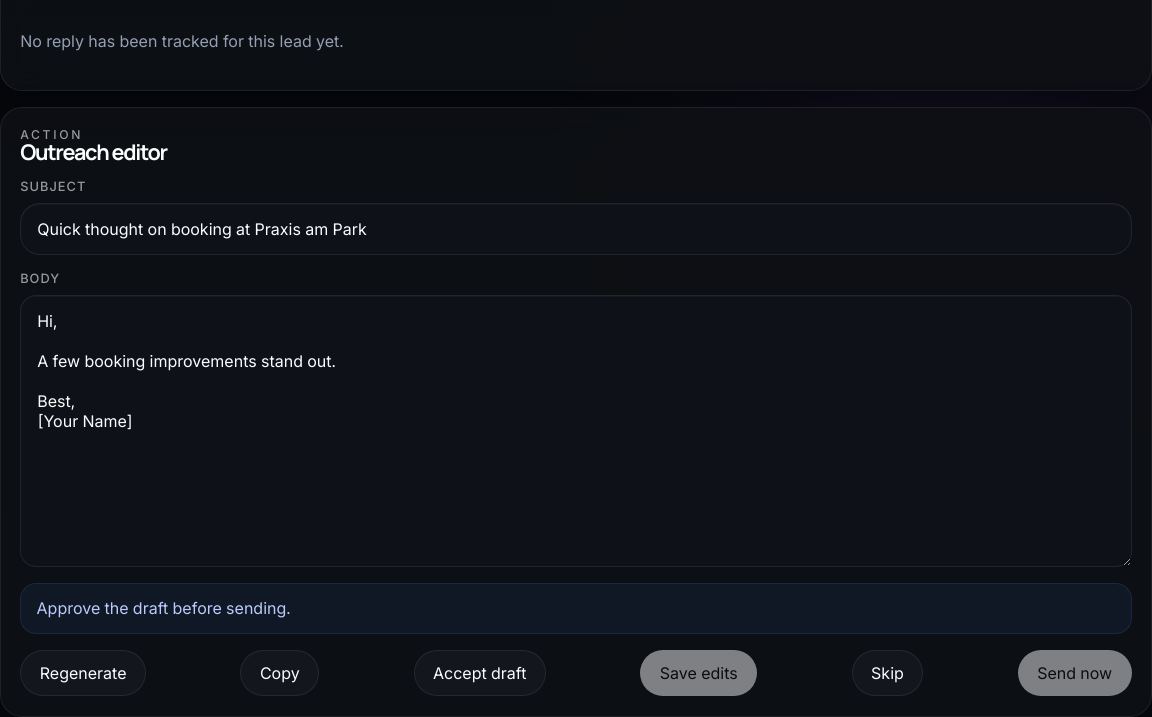
Scenario: LeadDetailPage › persists accepted, edited, and skipped outreach review actions
(page scrolled)
Expected: the field showing "Quick thought on booking at Praxis am Park" is shown, [20,203,1132,255]
Click the button "Accept draft" at point(480, 673), box [414,650,546,696]
(page scrolled)
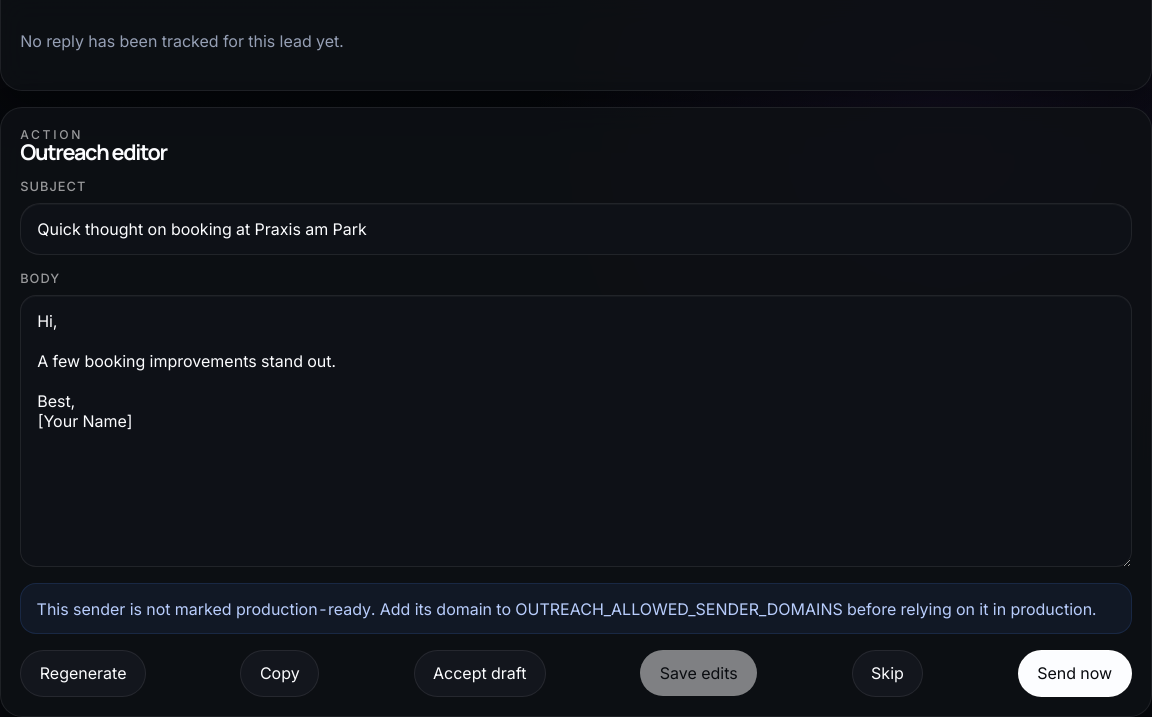
Replace the text in the field labelled "Subject" with "Sharper subject" at point(576, 229), box [20,203,1132,255]
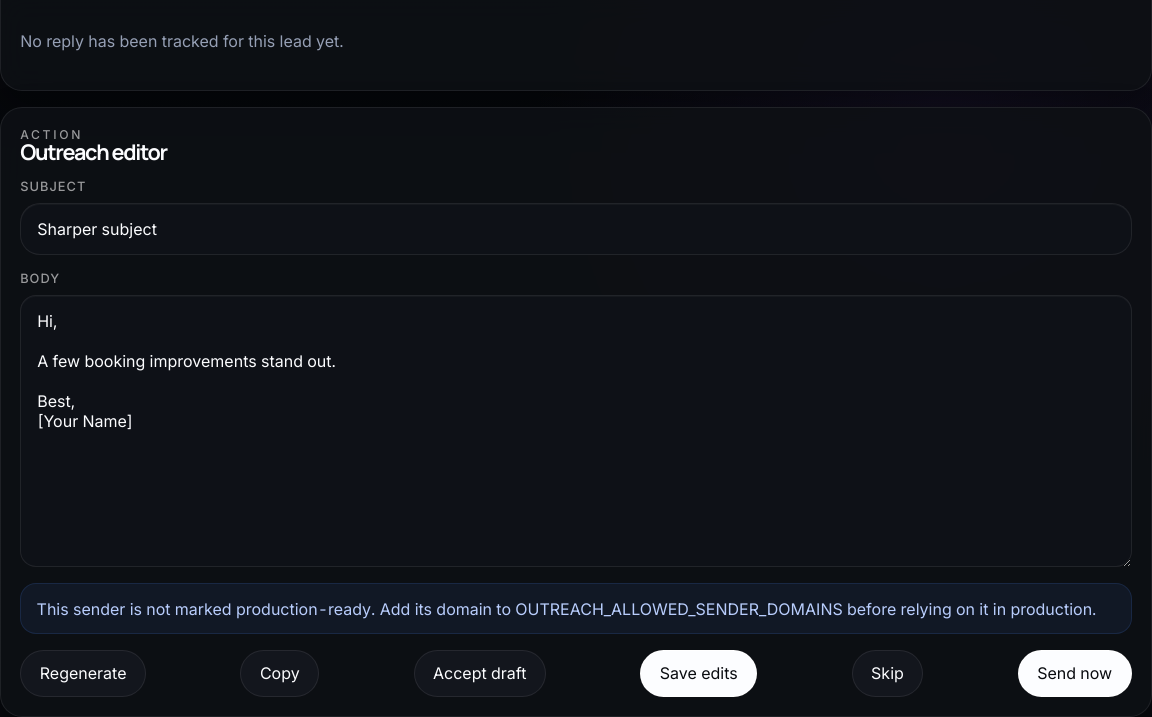
Replace the text in the text box labelled "Body" with "Edited body copy" at point(576, 431), box [20,295,1132,568]
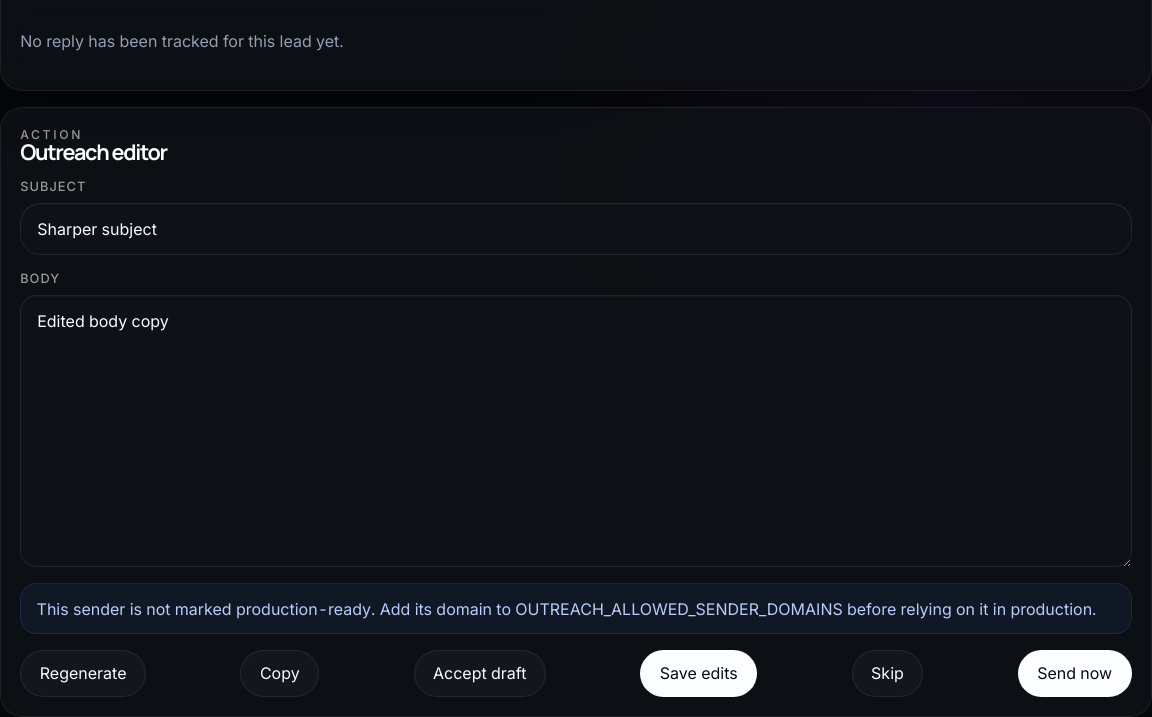
Click the button "Save edits" at point(699, 673), box [640,650,757,697]
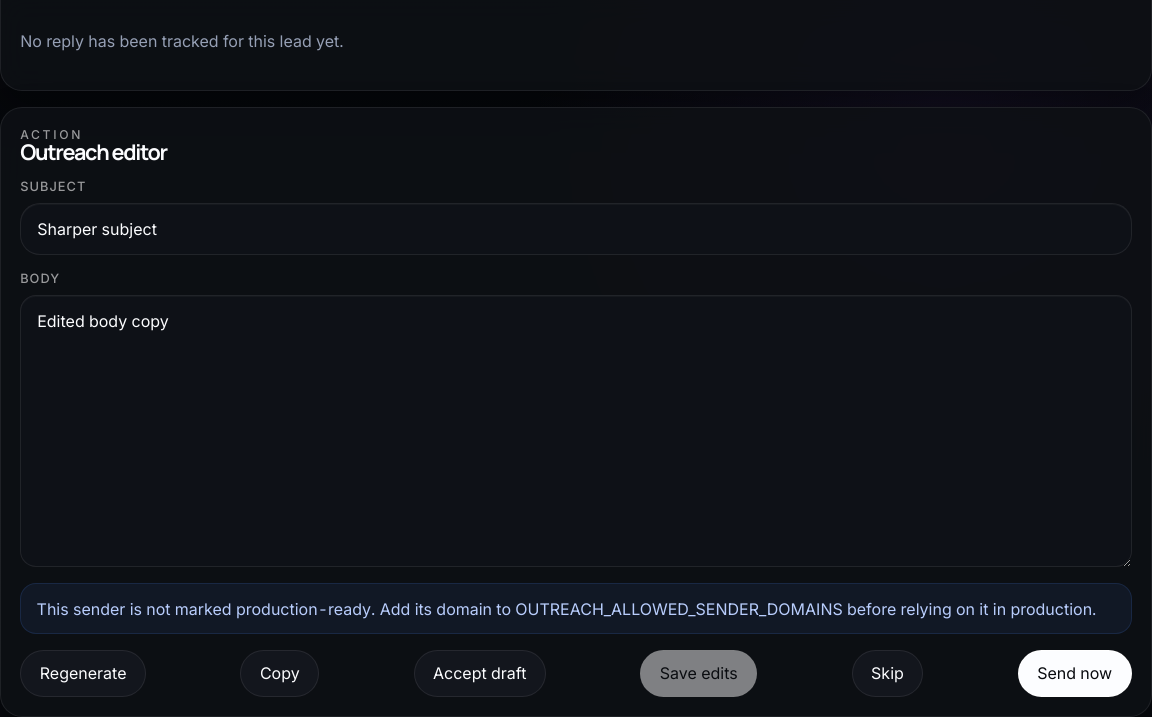
Click the button "Skip" at point(887, 673), box [852,650,923,697]
(page scrolled)
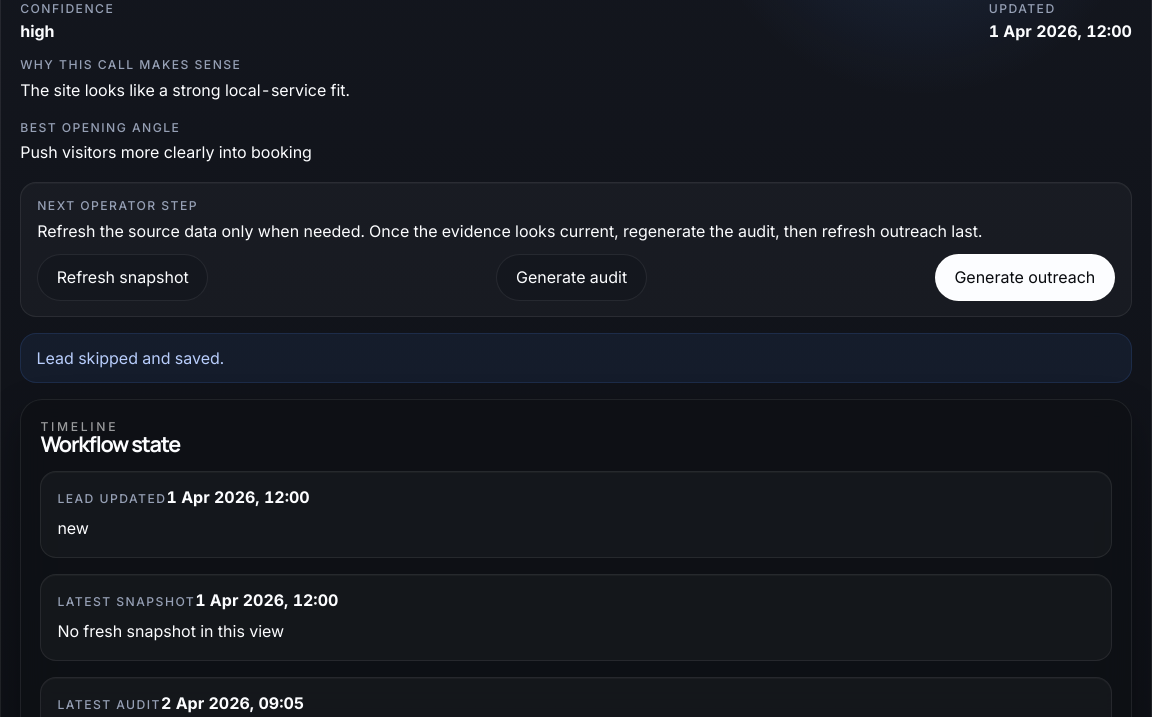
Expected: the text "Lead skipped and saved." is shown, [20,333,1132,383]
